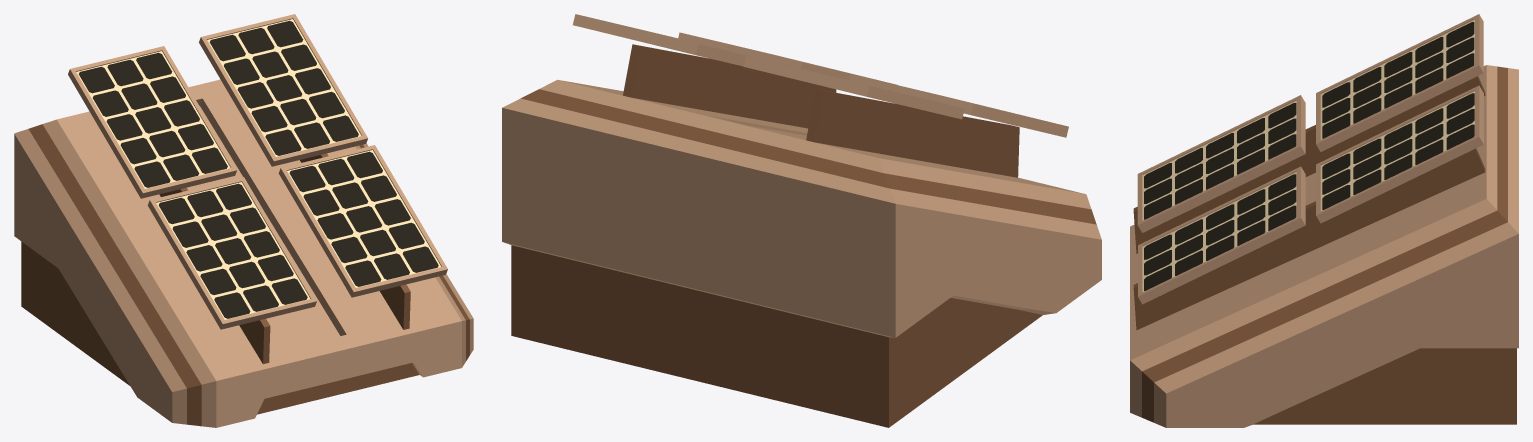
The model's file is quaternius-ultimate-space-pack-solar-panel-structure-transformed.glb.
3 renders of one model, left to right at view 1: azimuth 30°, elevation 25°; view 2: azimuth 150°, elevation 25°; view 3: azimuth 270°, elevation 25°, orthographic. The views are drawn at different scales.
Visible parts, largest first — view 1: SolarPanel_Structure; view 2: SolarPanel_Structure; view 3: SolarPanel_Structure.
Part boxes in pixels (left/top/right/bottom): SolarPanel_Structure: left=14, top=14, right=473, bottom=427; SolarPanel_Structure: left=502, top=14, right=1101, bottom=427; SolarPanel_Structure: left=1130, top=14, right=1518, bottom=427.
Size of the model in its own units: 4 by 3.07 by 4.
Materials: 1 (1 with a texture image).
